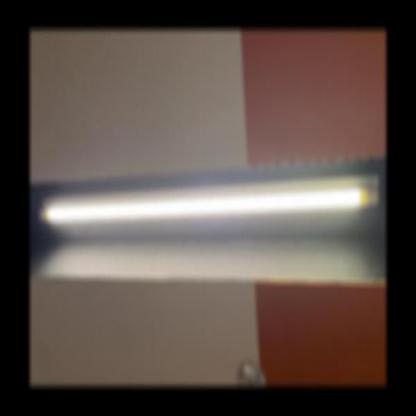light_on: (32, 167, 386, 237)
